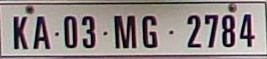character: (112, 14, 137, 50), (140, 13, 159, 49), (185, 13, 203, 49), (238, 12, 256, 48), (32, 14, 50, 49), (12, 14, 29, 49), (220, 13, 237, 47), (80, 13, 96, 49), (203, 13, 219, 49), (62, 15, 78, 48)
